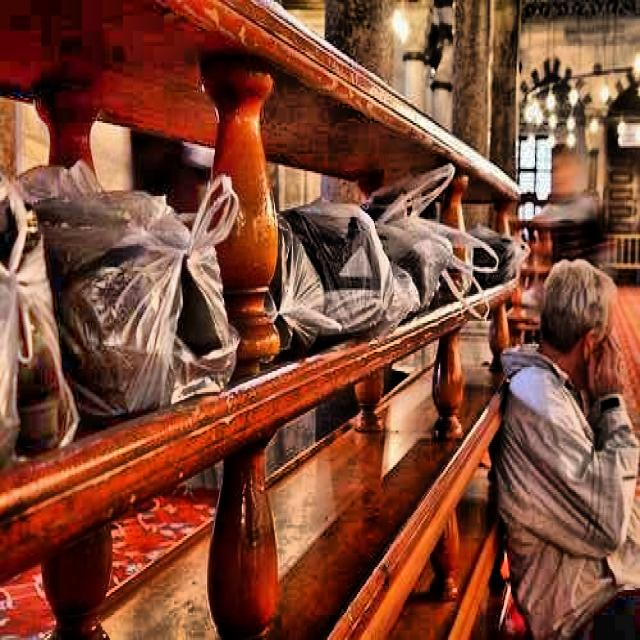Plastic: (29, 153, 250, 430), (287, 190, 383, 345)
